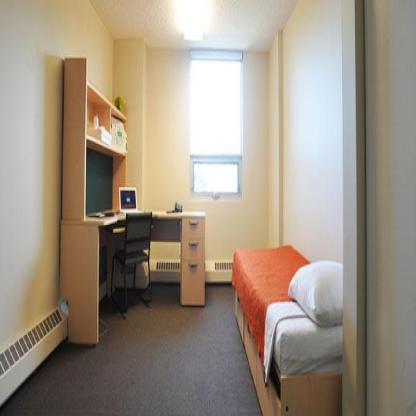other: (233, 240, 300, 309), (189, 62, 240, 150), (170, 2, 216, 39)
